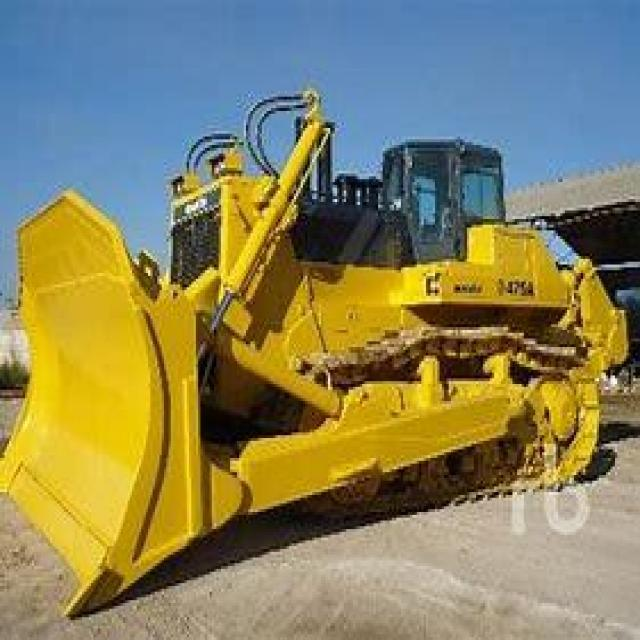Bulldozer: (9, 68, 638, 612)
